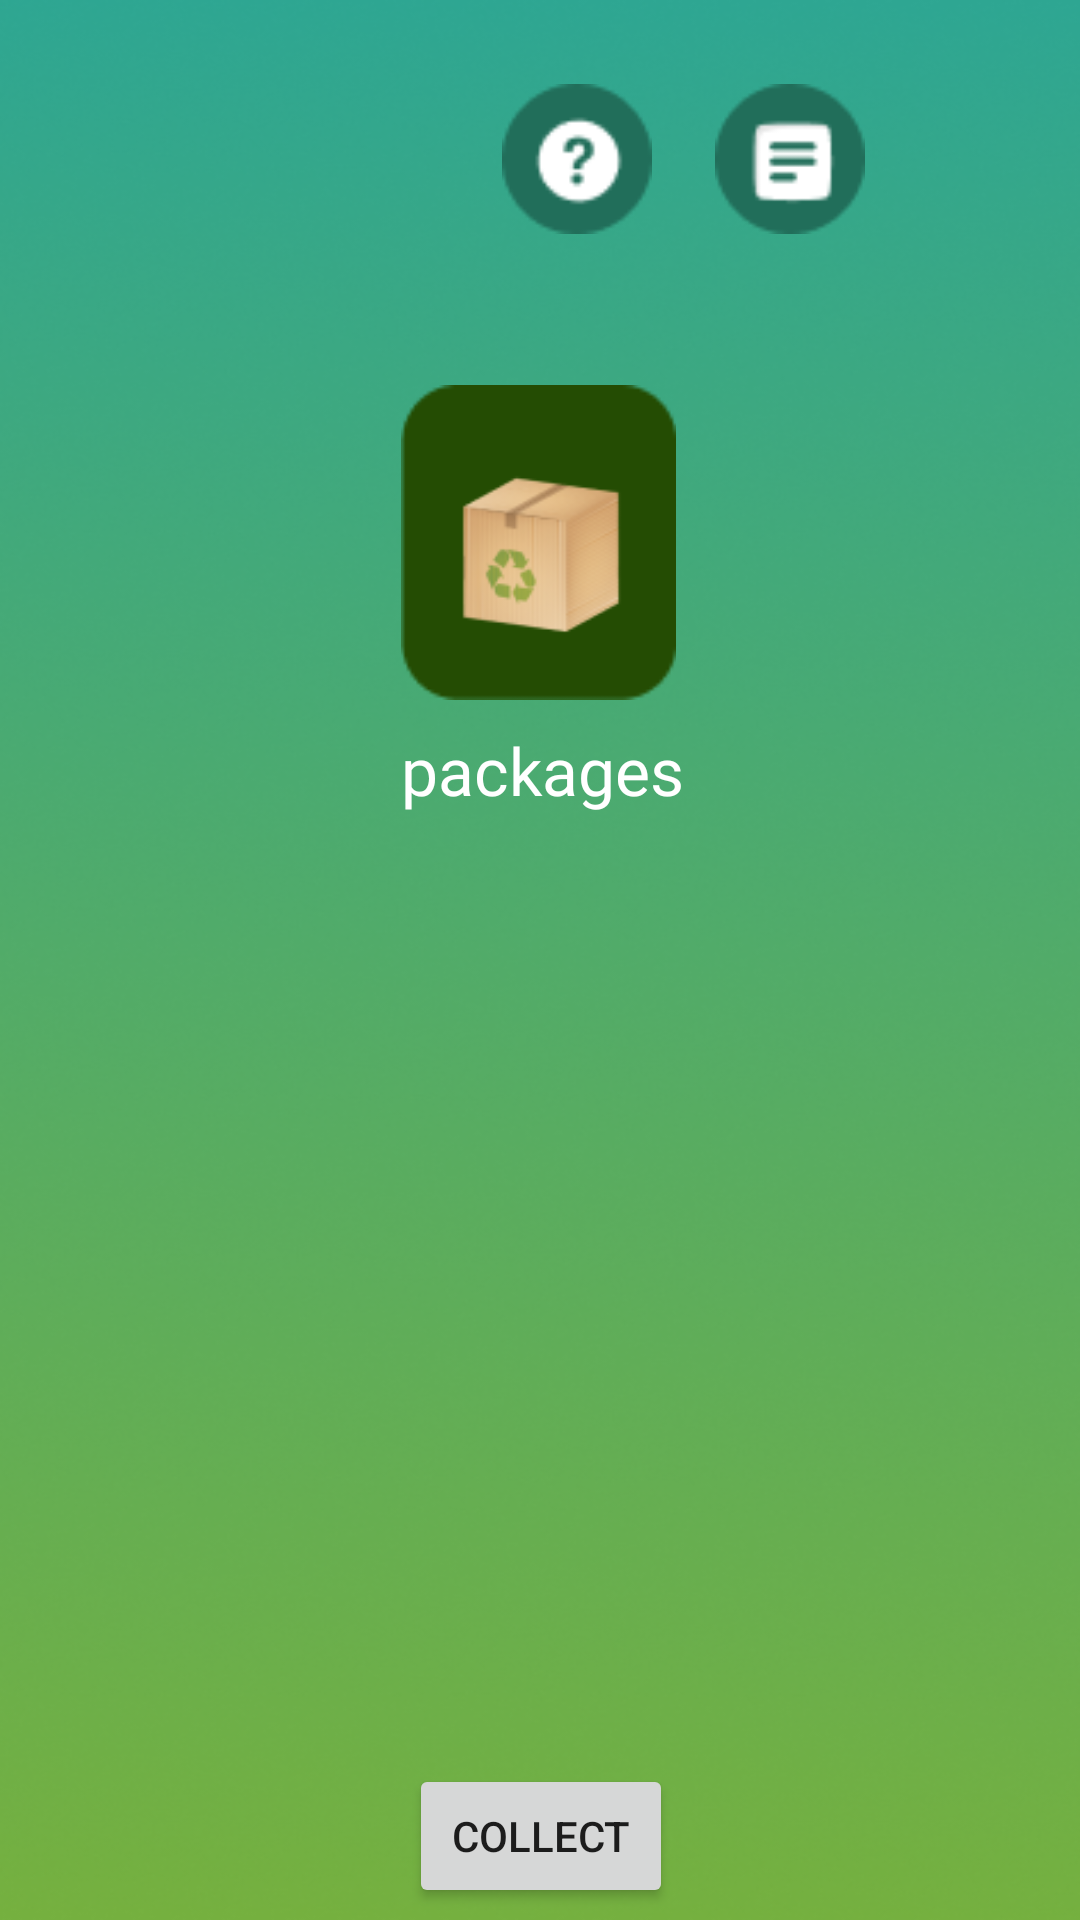

Where icons sit on this 1080x1920 app screen, as box=[x1, y1, x2, y2]:
helpicon: box=[502, 84, 652, 234]
orderhistoryicon: box=[715, 84, 865, 234]
